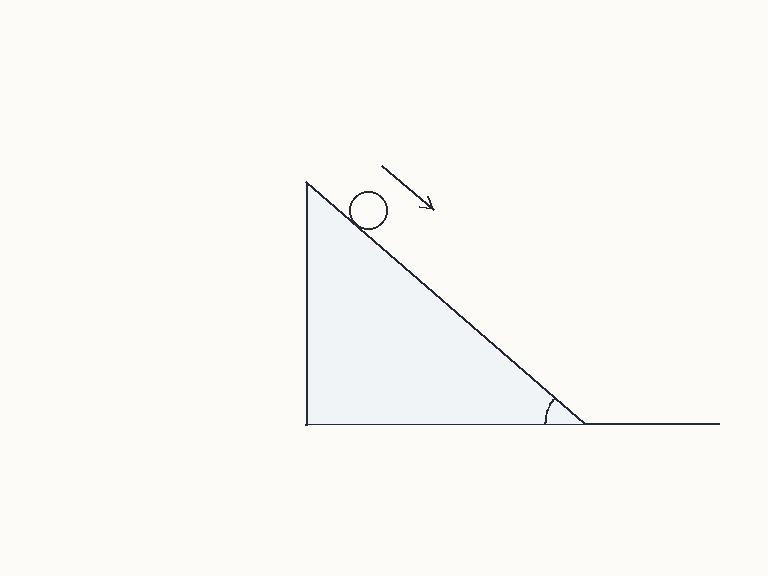ball: (347, 189, 389, 231)
ramp: (305, 180, 587, 426)
